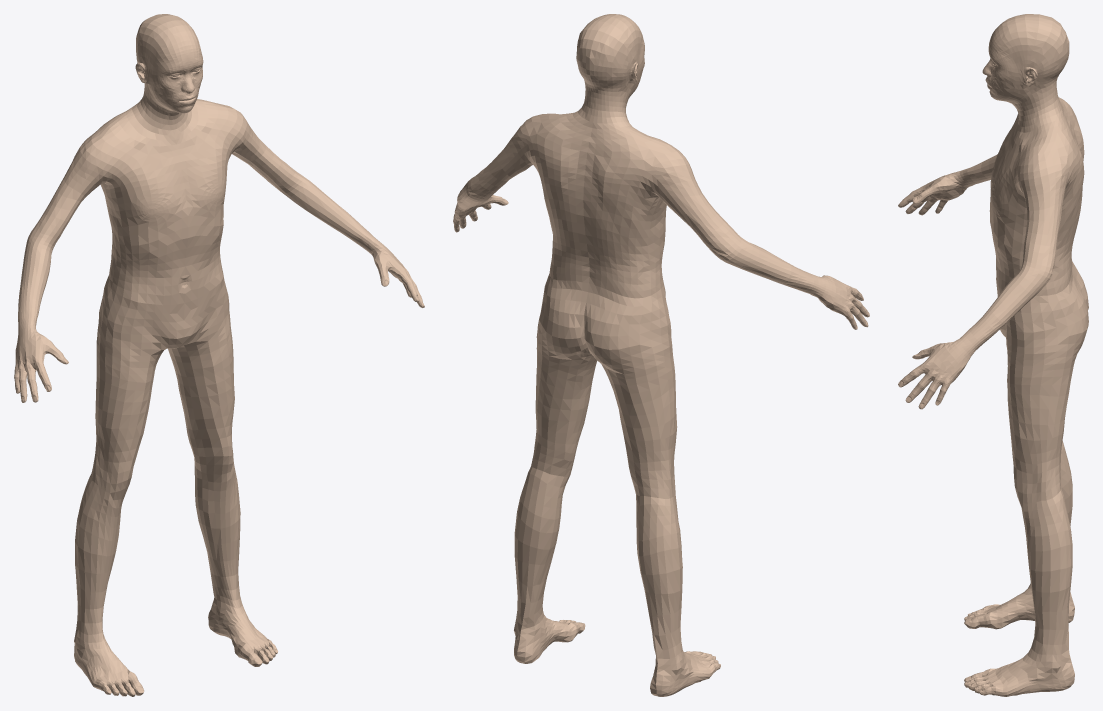
The model's file is male-adult-fit-low.glb.
3 renders of one model, left to right at view 1: azimuth 30°, elevation 25°; view 2: azimuth 150°, elevation 25°; view 3: azimuth 270°, elevation 25°, orthographic.
Parts seen in each view (by area): view 1: world; view 2: world; view 3: world.
Part boxes in pixels (<box>): world: <box>14,14,424,696</box>; world: <box>453,14,869,696</box>; world: <box>898,14,1088,696</box>.
Size of the model in its own units: 1.28 by 1.95 by 0.5267.
